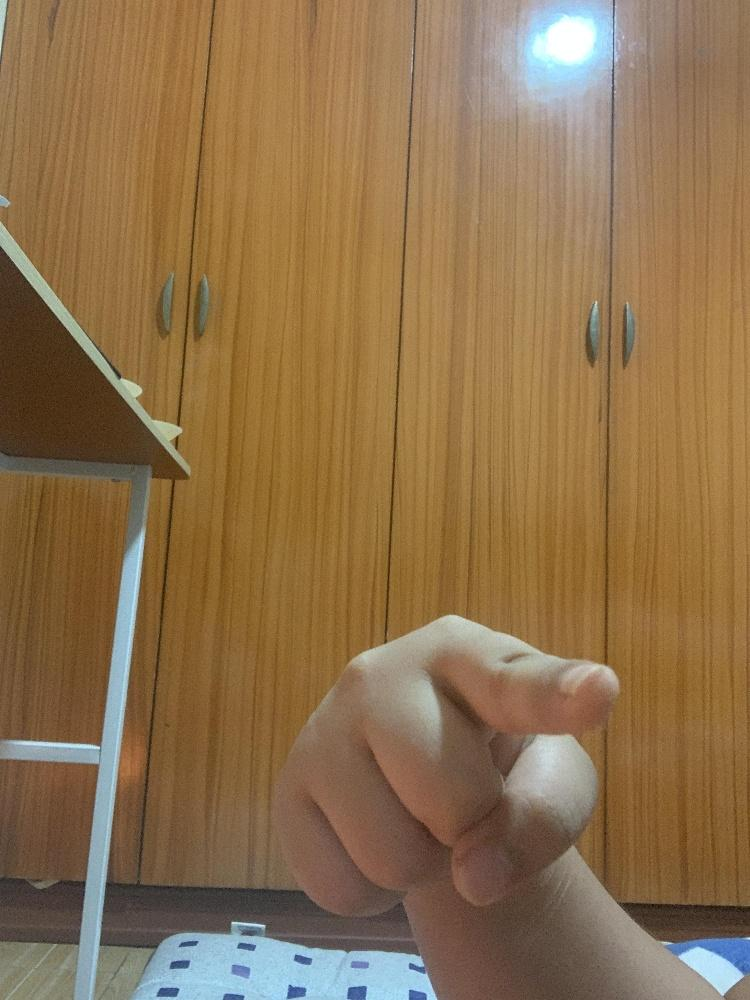z: (272, 612, 622, 920)
